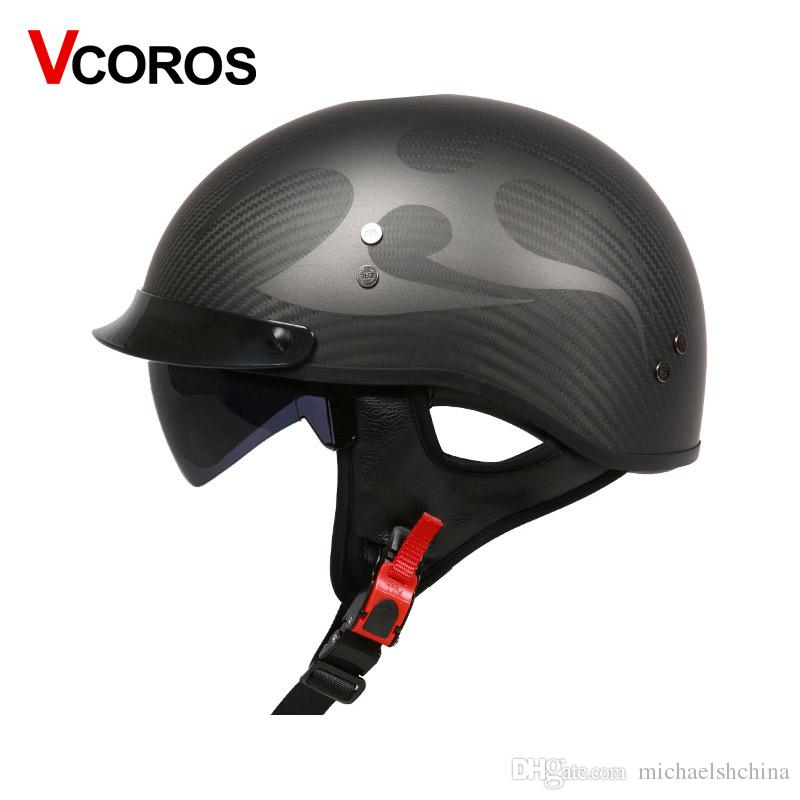with_helmet: (82, 92, 711, 723)
